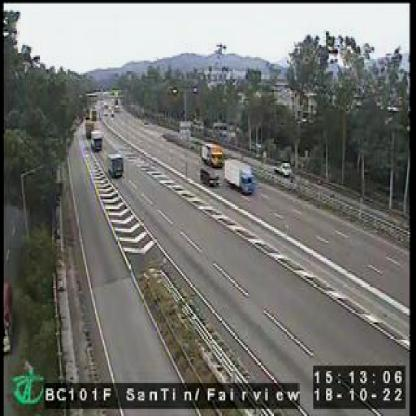Car: (199, 167, 220, 188)
Truck: (224, 159, 254, 197), (201, 140, 226, 166), (108, 153, 124, 178), (271, 162, 292, 178), (90, 130, 104, 150)
